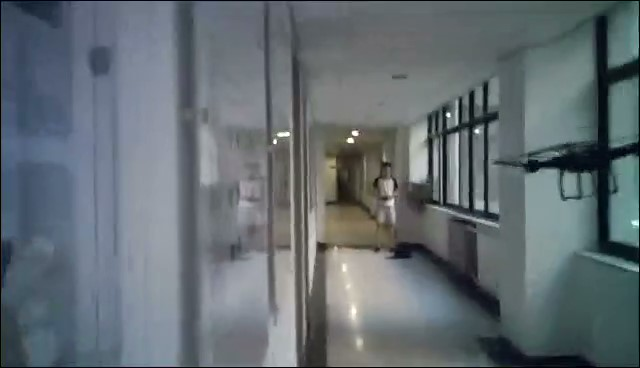drone: (490, 138, 639, 201)
person: (370, 161, 405, 254)
